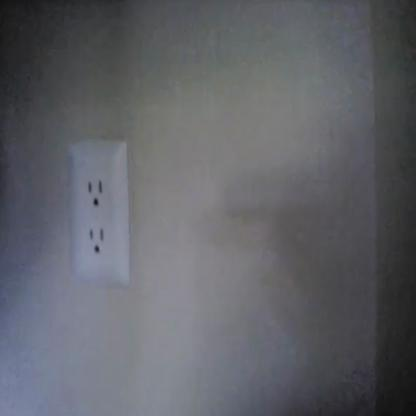OUTLET: (68, 140, 130, 288)
